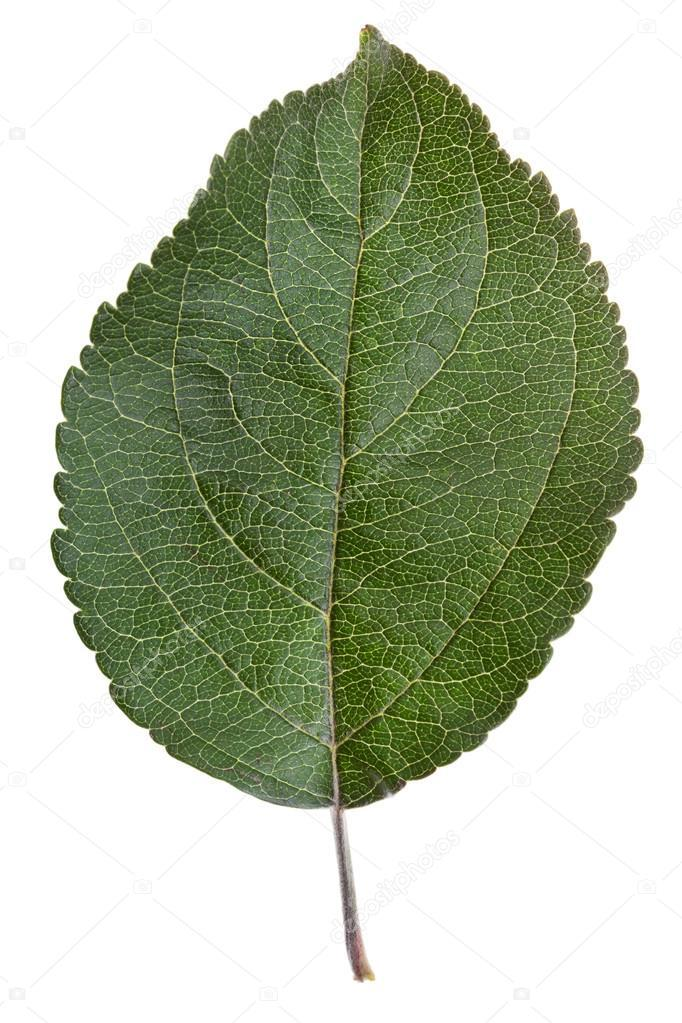Apple leaf: (34, 10, 663, 825)
